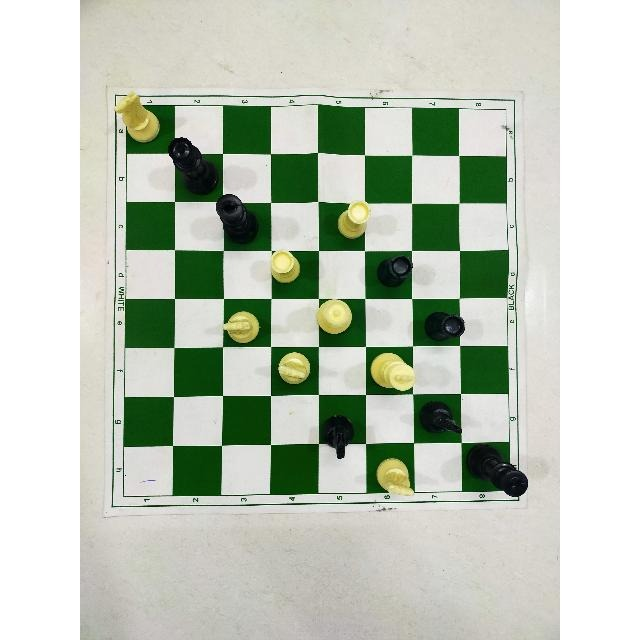black-king: (460, 438, 530, 508), (209, 191, 261, 249)
black-knight: (315, 408, 358, 466), (412, 394, 464, 441)
black-queen: (161, 132, 223, 195)
black-rook: (417, 301, 468, 348), (374, 249, 414, 300)
white-king: (364, 348, 418, 399)
white-knight: (109, 85, 164, 148), (370, 455, 419, 504), (272, 346, 320, 389), (218, 308, 264, 347)
white-queen: (311, 291, 358, 343)
white-rook: (325, 195, 374, 239), (265, 242, 305, 290)
